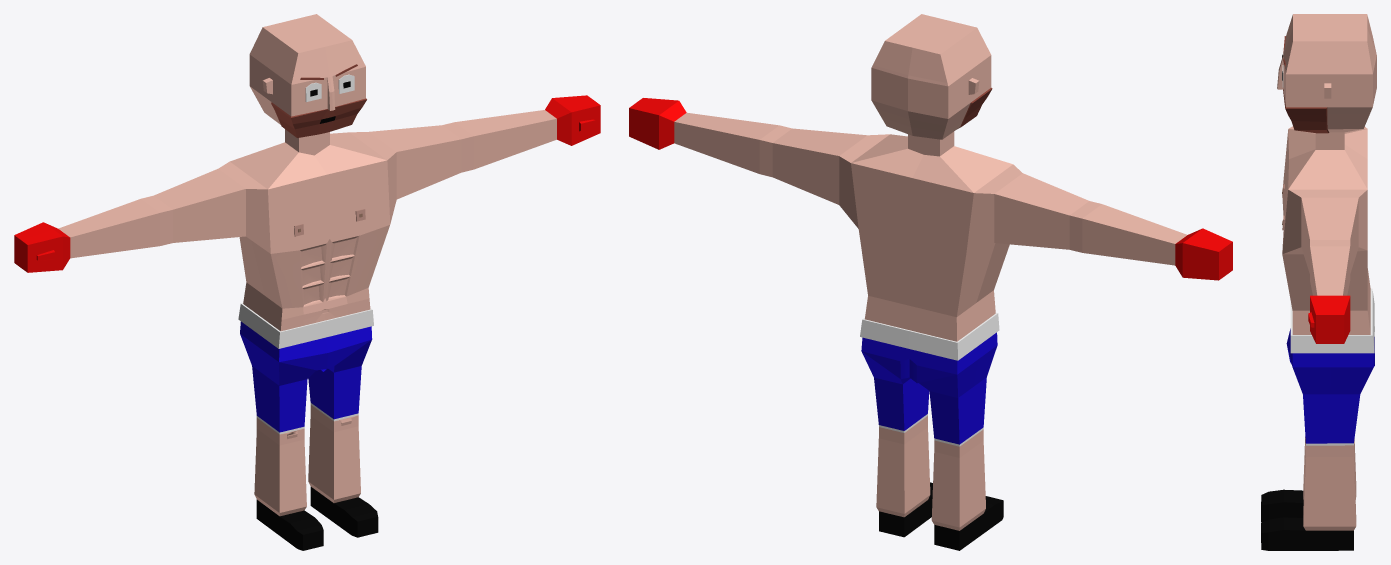
File: Blocky_TPose.fbx
3 views of the same model, side by side, from view 1: azimuth 30°, elevation 25°; view 2: azimuth 150°, elevation 25°; view 3: azimuth 270°, elevation 25° (orthographic). The views are drawn at different scales.
Parts seen in each view (by area): view 1: BlockyMesh; view 2: BlockyMesh; view 3: BlockyMesh.
Part boxes in pixels (x1,y1,x2,y2): BlockyMesh: (14, 14, 600, 550); BlockyMesh: (629, 14, 1232, 550); BlockyMesh: (1261, 14, 1376, 550).
Bounding box in the file's own units: 235 × 190 × 39.56.
